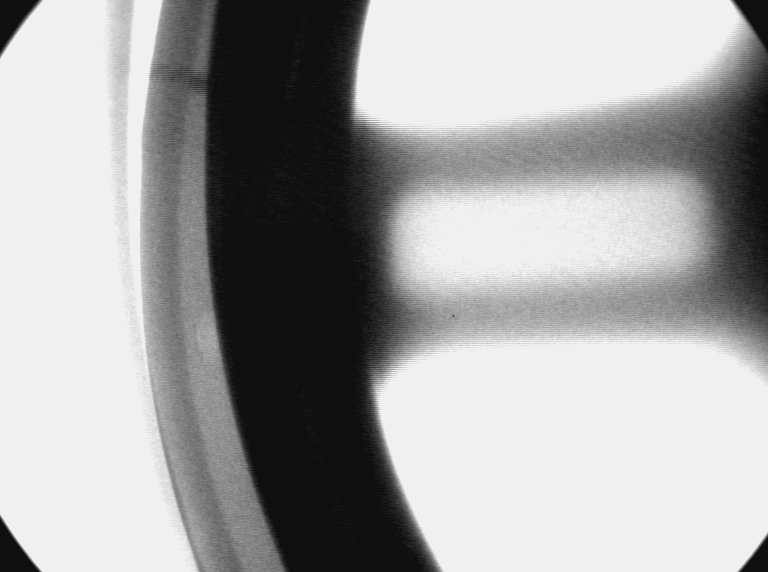defect: (190, 311, 226, 372)
